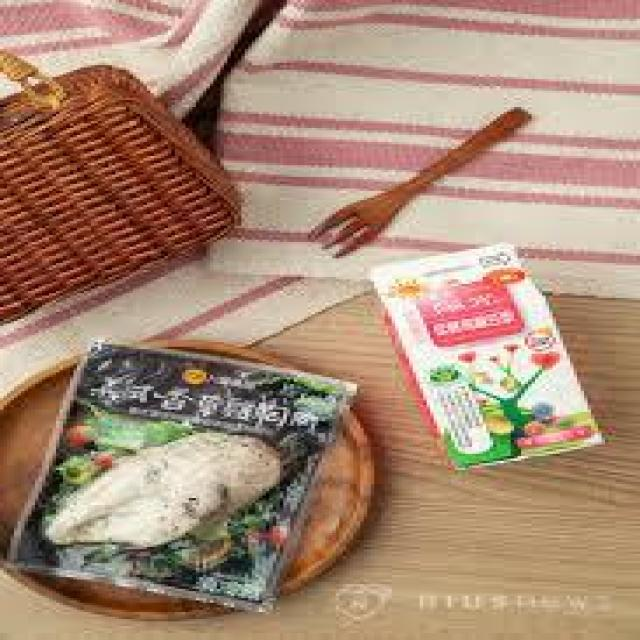TongYi_LowSugarHighFiberSoyMilk: (357, 244, 611, 476)
